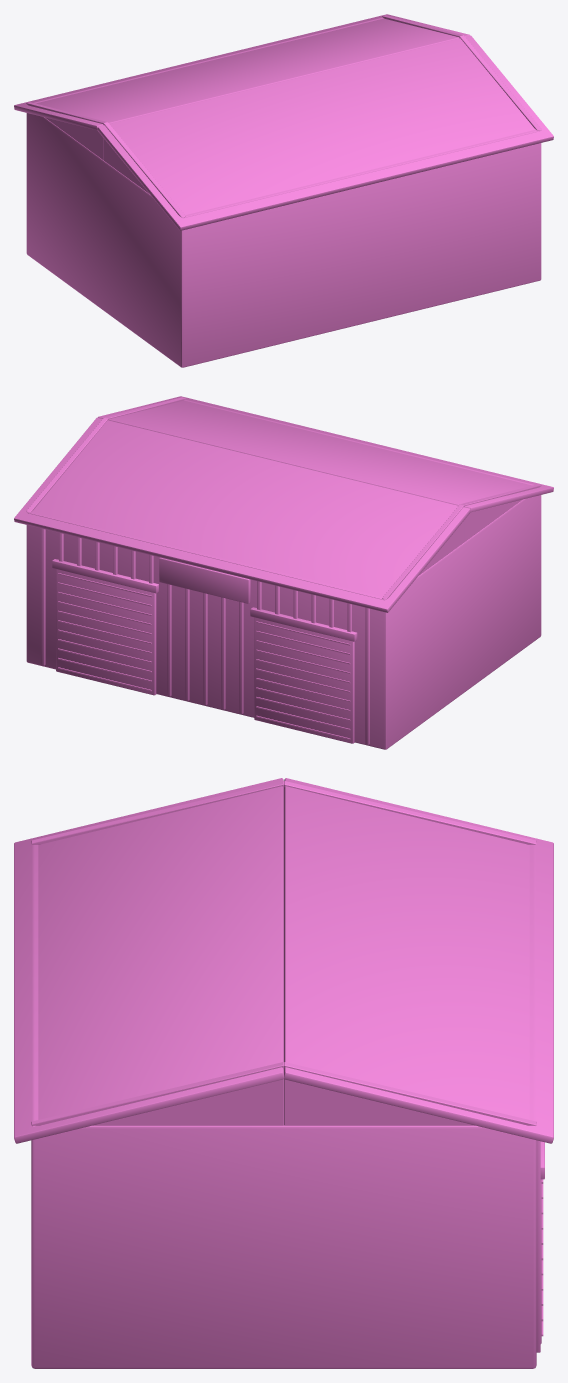
Rendered from Docks_Warehouse.fbx.
The picture shows the model from 3 angles, top to bottom: view 1: azimuth 30°, elevation 25°; view 2: azimuth 150°, elevation 25°; view 3: azimuth 270°, elevation 25°; orthographic projection. The views are drawn at different scales.
Parts seen in each view (by area): view 1: Paint, Body; view 2: Body, Paint; view 3: Body, Paint.
Part boxes in pixels (x1,y1,x2,y2): Paint: (26,17,541,367); Body: (14,14,553,230); Body: (14,396,553,743); Paint: (26,399,541,749); Body: (14,778,553,1343); Paint: (31,844,540,1368).
Bounding box in the file's own units: 41.5 × 19.99 × 32.08.
1 material, 1 textured.
